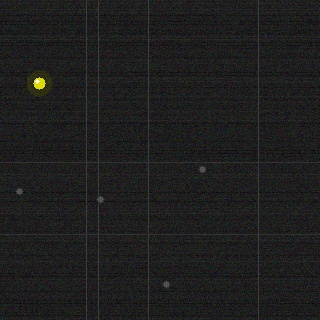yellow_warning: (31, 75, 47, 91)
